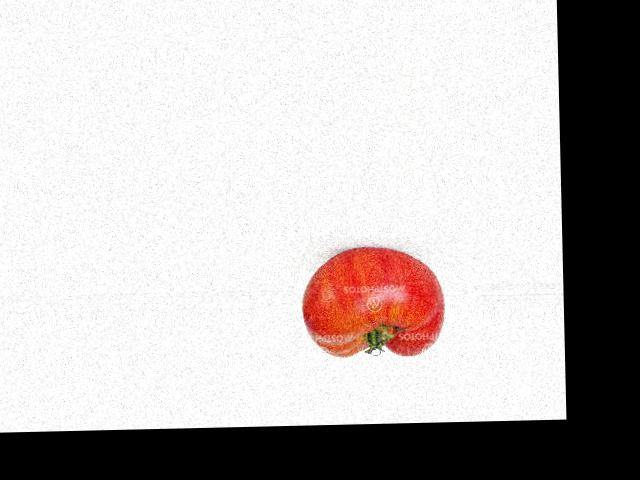tomato: (300, 245, 444, 358)
